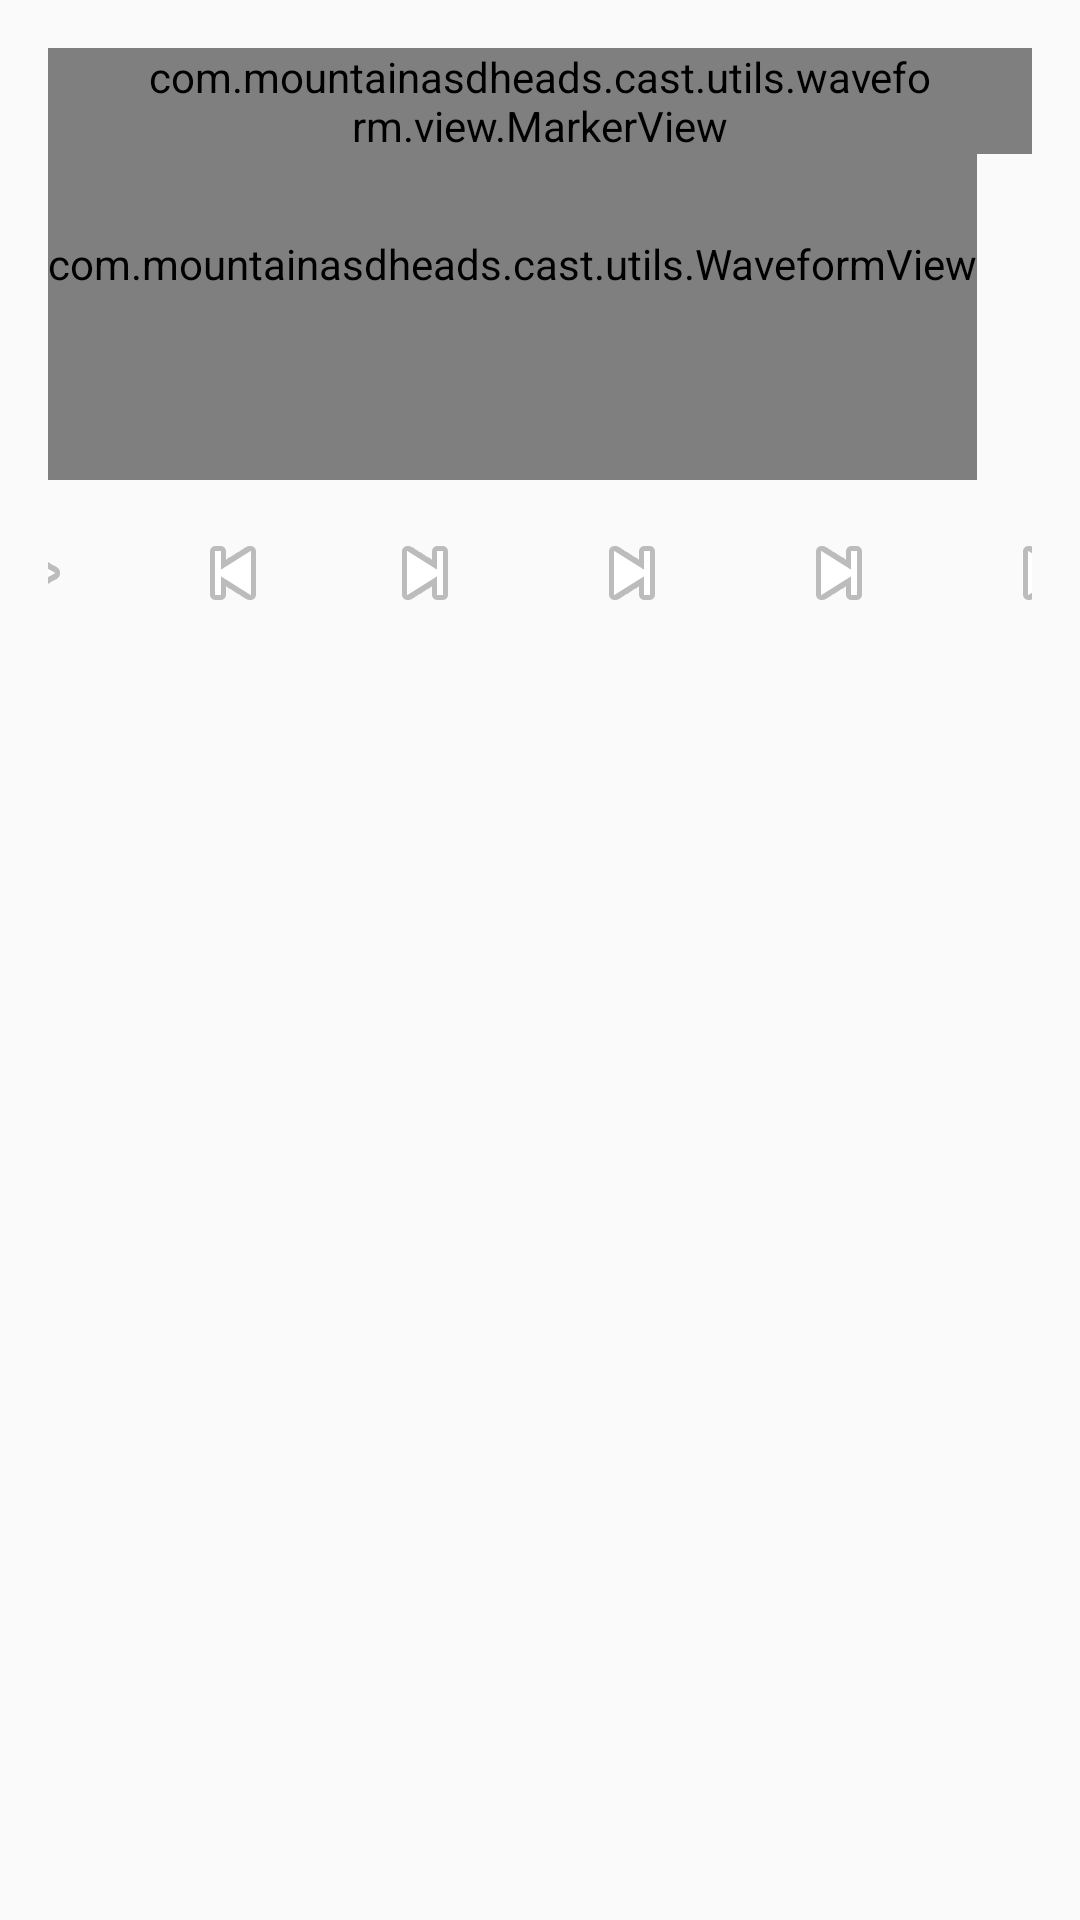

Screen size 1080 x 1920. Icon name, then its center in pixels as (x=x, y=y):
previous: (x=233, y=573)
